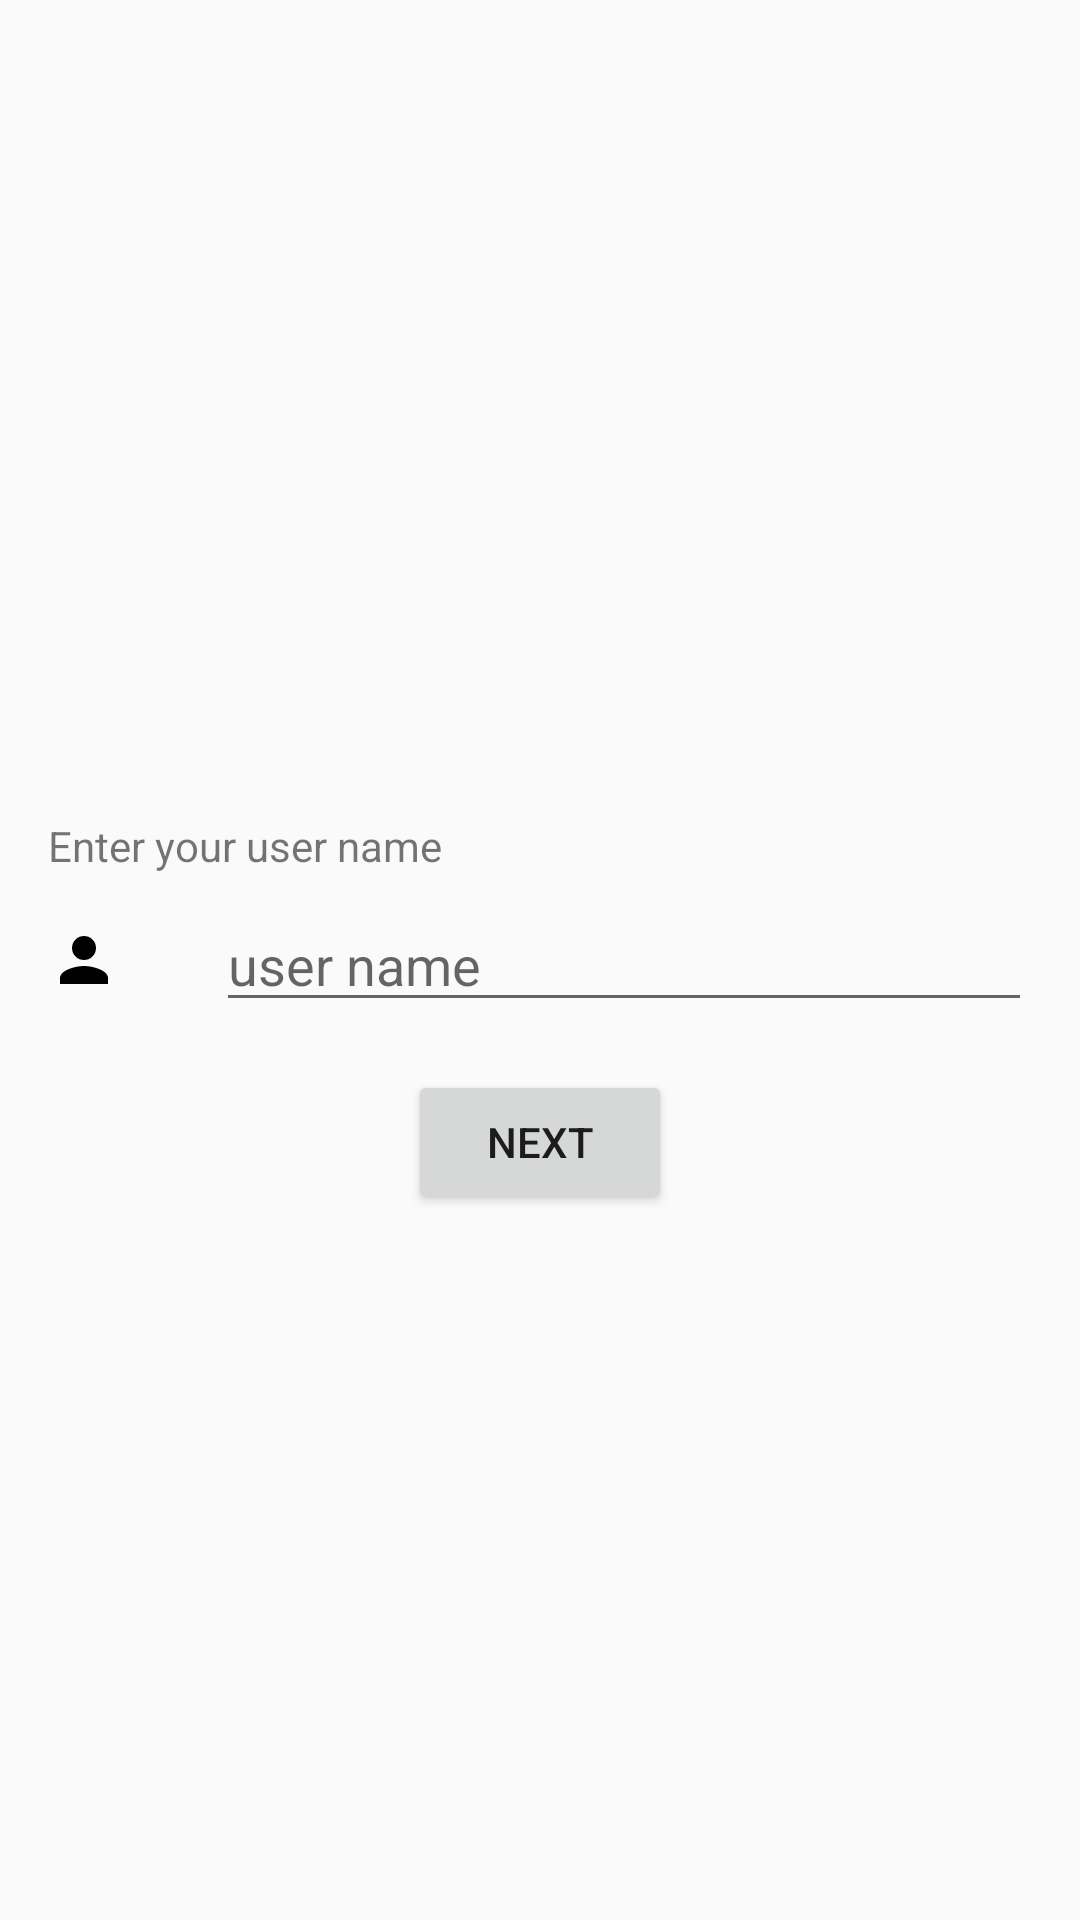

Icon click points for this 1080px x 1920px phone screenshot, format (x=x, y=y):
person: (x=84, y=960)
